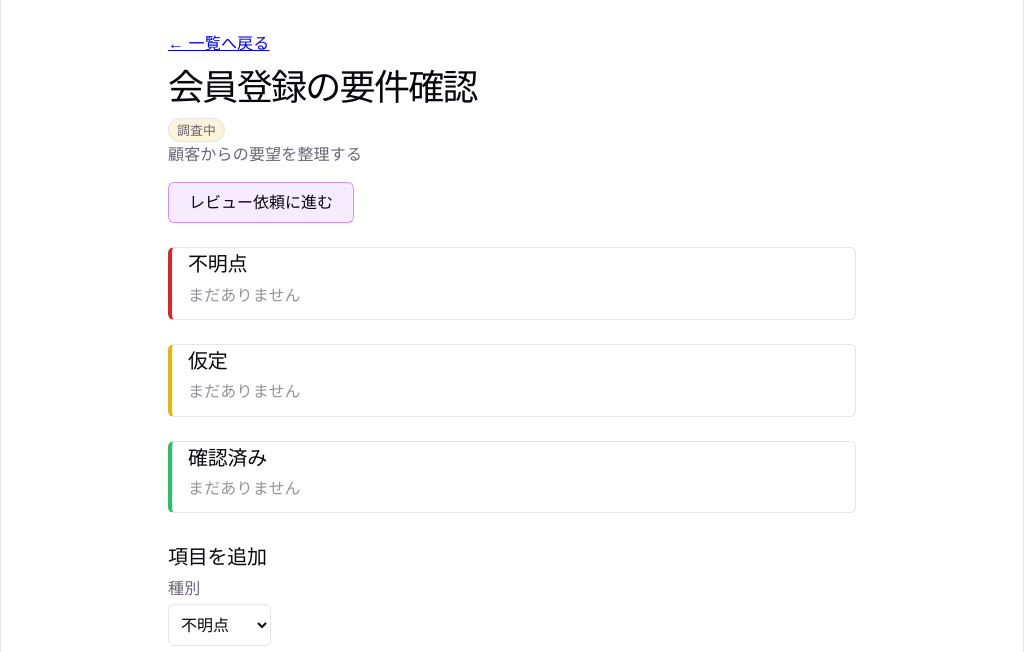
Scenario: レビュー依頼 › APIに断られたときは、返されたエラーを表示する
This screenshot has width=1024, height=652.
Click the button "レビュー依頼に進む".
click(261, 202)  # box [168,182,354,223]
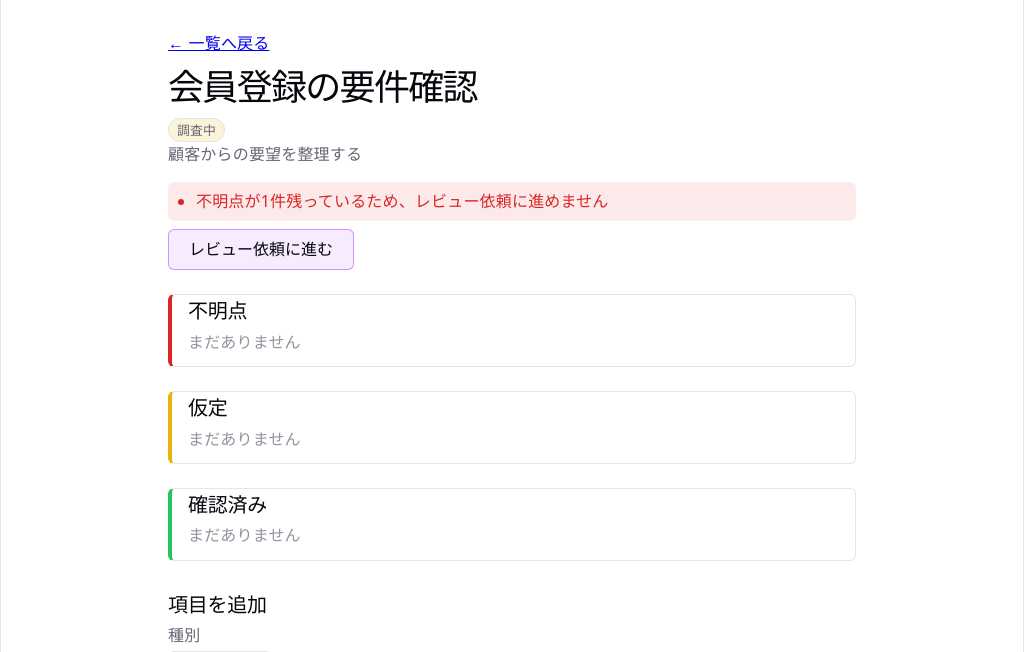
expect the text "調査中" is shown: met, box [168,118,225,142]
expect the message reads "不明点が1件残っているため、レビュー依頼に進めません": met, box [196,190,609,212]
